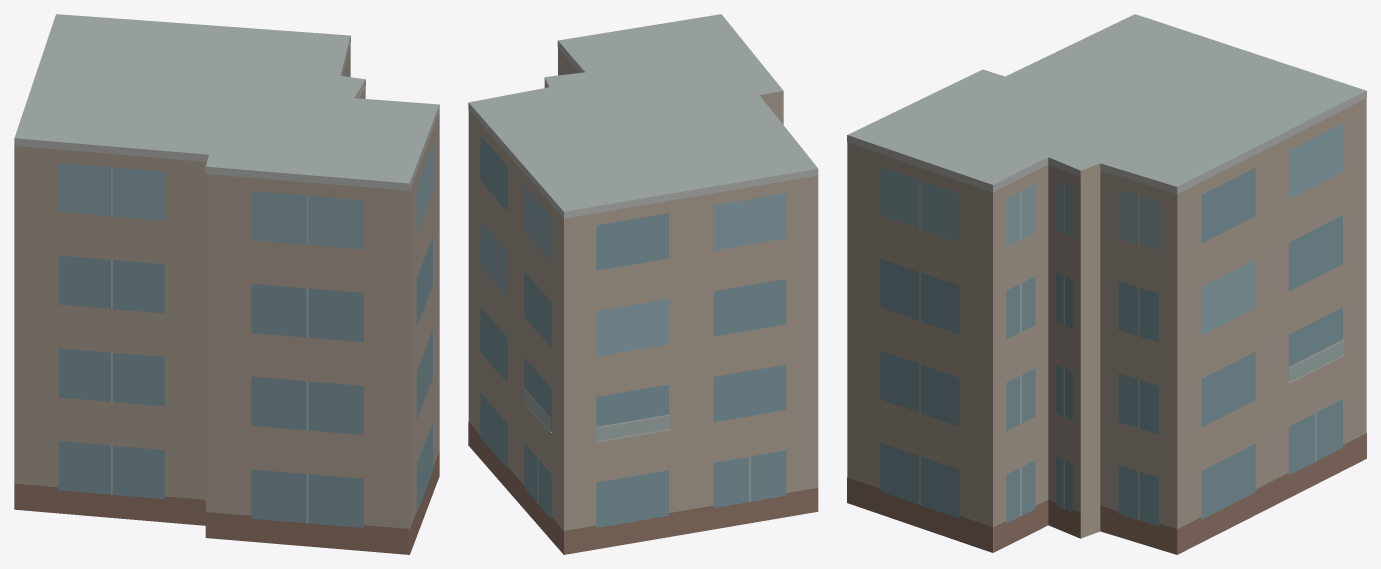
Rendered from survey-upis-32655429.glb.
3 renders of one model, left to right at view 1: azimuth 30°, elevation 25°; view 2: azimuth 150°, elevation 25°; view 3: azimuth 270°, elevation 25°, orthographic. The views are drawn at different scales.
Visible parts, largest first — view 1: survey-upis-32655429.tmp; view 2: survey-upis-32655429.tmp; view 3: survey-upis-32655429.tmp.
Part boxes in pixels (x1,y1,x2,y2): survey-upis-32655429.tmp: [14, 14, 439, 554]; survey-upis-32655429.tmp: [468, 14, 818, 554]; survey-upis-32655429.tmp: [847, 14, 1366, 554].
Bounding box in the file's own units: 12.3 × 12.2 × 15.62.
